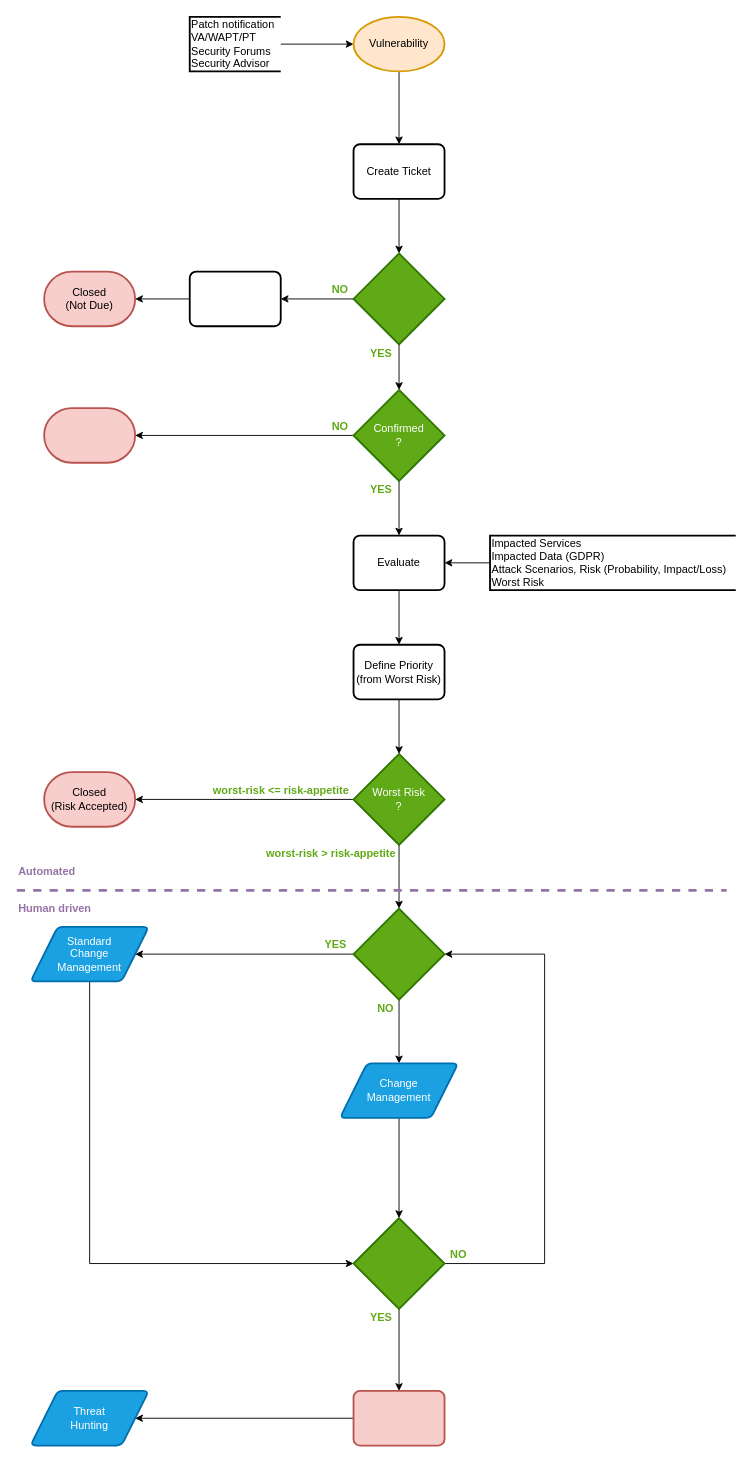
The diagram is 753 pixels wide and 1461 high, and some of its shapes have lost their labels. The centre of each missing label's shape, as x and y in pixels:
"Closed (False Positive)" belongs at (x=89, y=435).
"Closed (Mitigated)" belongs at (x=398, y=1418).
"Legit ?" belongs at (x=398, y=298).
"Mitigable (standard change) ?" belongs at (x=398, y=953).
"Mitigated?" belongs at (x=398, y=1263).
"Notify" belongs at (x=234, y=298).
